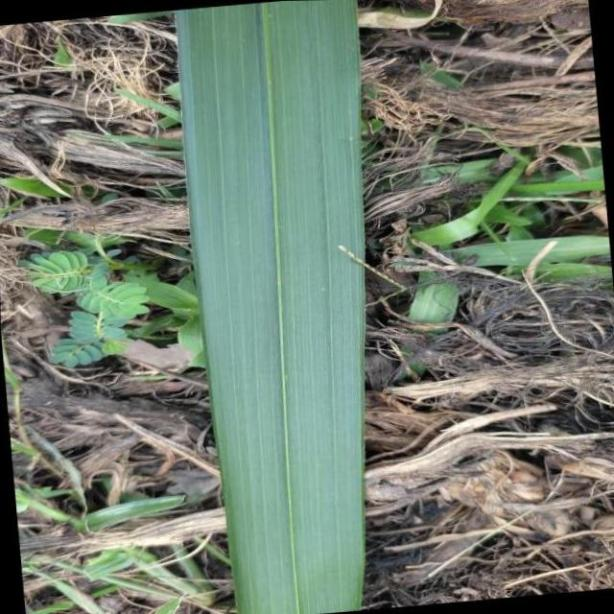Healthy: (178, 7, 368, 614)
